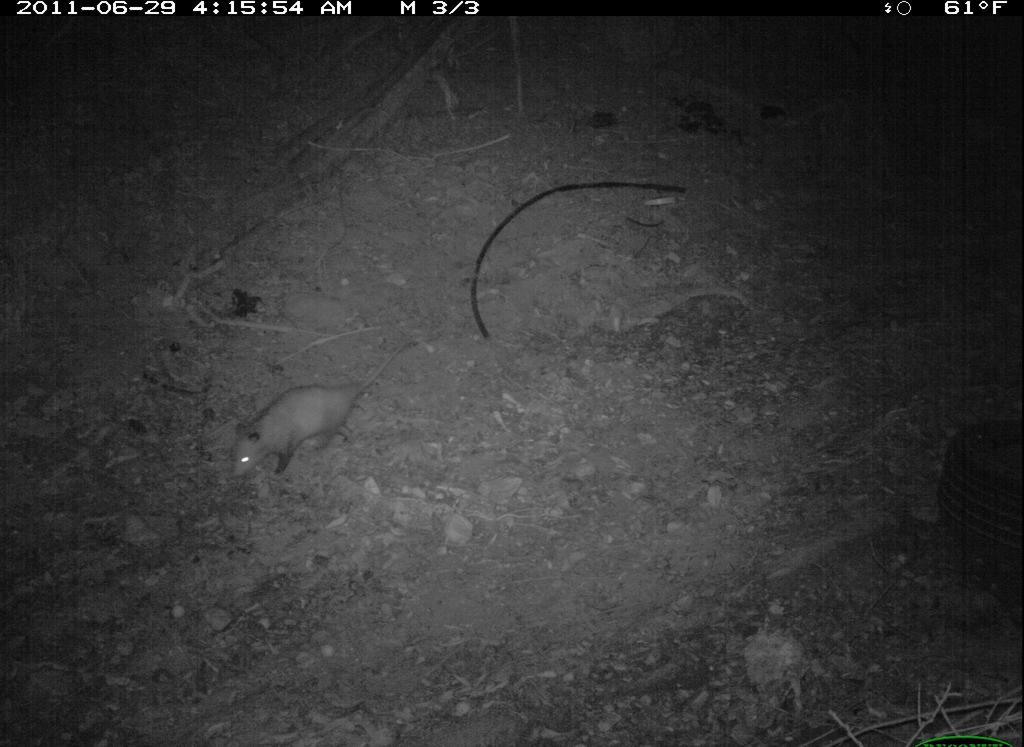opossum: (222, 332, 419, 492)
